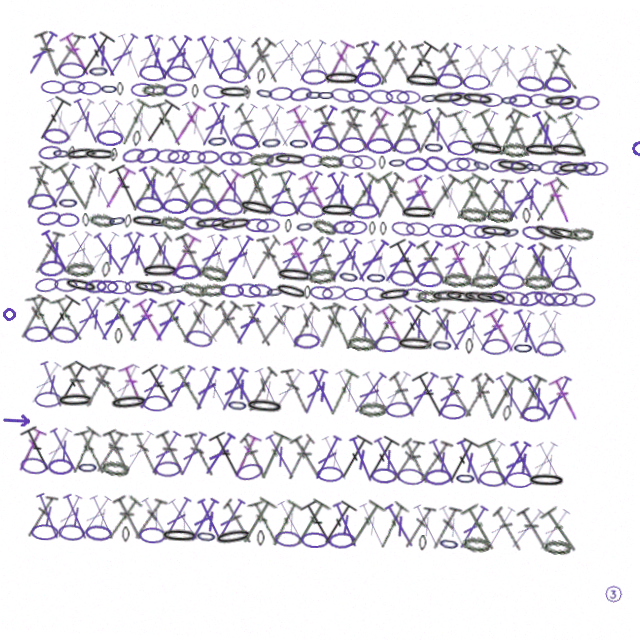chain: (219, 528, 261, 551), (233, 199, 275, 221), (528, 215, 565, 238), (462, 134, 503, 154), (111, 398, 152, 418), (543, 134, 584, 153), (272, 282, 309, 303), (273, 267, 314, 285), (396, 69, 436, 87), (543, 217, 579, 237), (247, 399, 287, 417), (215, 217, 251, 236), (62, 283, 98, 302), (376, 283, 412, 302), (139, 267, 179, 284), (396, 333, 436, 350), (58, 399, 98, 416), (239, 463, 269, 485), (59, 152, 95, 170), (442, 284, 478, 302), (460, 284, 496, 302), (315, 70, 355, 86), (517, 136, 557, 152), (315, 202, 355, 218), (396, 202, 436, 218), (531, 466, 571, 482), (166, 532, 206, 548), (197, 266, 228, 286), (305, 266, 336, 286), (424, 86, 460, 103), (453, 86, 489, 103), (490, 152, 526, 169), (190, 218, 226, 235), (131, 284, 167, 301), (308, 216, 336, 237), (293, 200, 322, 220), (50, 332, 79, 352), (185, 332, 214, 352), (130, 150, 157, 171), (517, 282, 544, 303), (552, 153, 587, 169), (473, 285, 508, 301), (225, 134, 254, 153), (212, 200, 241, 219), (419, 150, 445, 171), (531, 282, 557, 303), (63, 267, 93, 285), (468, 267, 498, 285), (104, 465, 134, 483), (536, 87, 571, 102), (268, 153, 303, 168), (127, 219, 162, 234), (476, 219, 511, 234), (429, 285, 464, 300), (374, 333, 403, 351), (401, 465, 430, 483), (116, 151, 142, 171), (260, 151, 286, 171), (510, 69, 538, 87), (37, 135, 65, 153), (172, 267, 200, 285), (388, 267, 416, 285), (550, 267, 578, 285), (179, 284, 207, 302), (24, 333, 52, 351), (537, 333, 565, 351), (24, 465, 52, 483), (280, 531, 308, 549), (33, 217, 59, 236), (489, 283, 515, 302), (441, 267, 470, 284), (522, 267, 551, 284), (360, 399, 389, 416), (468, 531, 497, 548), (211, 88, 246, 102), (78, 154, 113, 168), (243, 152, 270, 170), (37, 267, 64, 285), (51, 69, 79, 86), (159, 69, 187, 86), (24, 201, 52, 218), (132, 201, 160, 218), (348, 201, 376, 218), (496, 267, 524, 284), (334, 531, 362, 548), (323, 86, 349, 104), (518, 218, 544, 236), (33, 284, 59, 302), (495, 136, 524, 152), (455, 202, 484, 218), (482, 202, 511, 218), (347, 334, 376, 350), (549, 532, 578, 548), (294, 69, 321, 86), (429, 69, 456, 86), (537, 69, 564, 86), (388, 135, 415, 152), (294, 333, 321, 350), (483, 333, 510, 350), (37, 399, 64, 416), (388, 399, 415, 416), (523, 399, 550, 416), (159, 465, 186, 482), (429, 465, 456, 482), (483, 465, 510, 482), (64, 531, 91, 548), (91, 531, 118, 548), (282, 86, 307, 104), (551, 86, 576, 104), (547, 152, 572, 170), (132, 70, 160, 86), (334, 136, 362, 152), (442, 136, 470, 152), (267, 202, 295, 218), (145, 400, 173, 416), (510, 466, 538, 482), (37, 532, 65, 548), (307, 532, 335, 548), (187, 201, 213, 218), (320, 284, 346, 301), (213, 70, 240, 86), (456, 70, 483, 86), (91, 136, 118, 152), (307, 136, 334, 152), (361, 136, 388, 152), (159, 202, 186, 218), (156, 219, 183, 235), (415, 268, 442, 284), (198, 285, 225, 301), (442, 400, 469, 416), (321, 466, 348, 482), (375, 466, 402, 482), (145, 532, 172, 548), (156, 86, 181, 103), (522, 86, 547, 103), (33, 152, 58, 169), (441, 152, 466, 169), (451, 152, 476, 169), (340, 218, 365, 235), (388, 218, 413, 235), (149, 284, 174, 301), (236, 284, 261, 301), (349, 70, 375, 86), (52, 466, 78, 482), (201, 135, 224, 153), (255, 135, 278, 153), (336, 267, 359, 285), (444, 531, 467, 549), (162, 152, 186, 169), (329, 218, 353, 235), (363, 284, 387, 301), (262, 87, 287, 103), (362, 87, 387, 103), (569, 87, 594, 103), (347, 153, 372, 169), (505, 153, 530, 169), (534, 153, 559, 169), (208, 219, 233, 235), (253, 219, 278, 235), (459, 219, 484, 235), (123, 285, 148, 301), (308, 285, 333, 301), (504, 285, 529, 301), (466, 152, 488, 170), (80, 69, 103, 86), (201, 531, 224, 548), (135, 87, 161, 102), (86, 219, 112, 234), (565, 219, 591, 234), (196, 87, 220, 103), (442, 87, 466, 103), (214, 153, 238, 169), (180, 219, 204, 235), (83, 285, 107, 301), (498, 218, 519, 236), (579, 153, 604, 168), (247, 285, 272, 300), (401, 285, 426, 300), (432, 333, 454, 350), (229, 399, 251, 416), (313, 154, 339, 168), (415, 286, 441, 300), (55, 87, 79, 102), (379, 87, 403, 102), (151, 153, 175, 168), (192, 153, 216, 168), (225, 153, 249, 168), (334, 153, 358, 168), (485, 153, 509, 168), (403, 219, 427, 234), (53, 285, 77, 300), (543, 285, 567, 300), (553, 285, 577, 300), (571, 285, 595, 300), (104, 218, 125, 235), (283, 136, 305, 152), (418, 136, 440, 152), (54, 202, 76, 218), (364, 268, 386, 284), (513, 334, 535, 350), (81, 466, 103, 482), (459, 466, 481, 482), (34, 88, 58, 102), (71, 88, 95, 102), (124, 88, 148, 102), (390, 88, 414, 102), (473, 88, 497, 102), (502, 88, 526, 102), (177, 154, 201, 168), (242, 220, 266, 234), (425, 220, 449, 234), (438, 220, 462, 234), (106, 286, 130, 300), (219, 286, 243, 300), (343, 286, 367, 300), (341, 88, 364, 102), (296, 154, 319, 168), (400, 154, 423, 168), (570, 154, 593, 168), (54, 220, 77, 234), (471, 220, 494, 234), (95, 286, 118, 300), (248, 87, 268, 103), (413, 87, 433, 103), (519, 153, 539, 169), (292, 219, 312, 235), (166, 285, 186, 301), (264, 285, 284, 301), (493, 87, 513, 102), (383, 153, 402, 168), (93, 88, 112, 102), (298, 88, 317, 102), (310, 88, 329, 102), (47, 154, 66, 168), (147, 220, 166, 234), (249, 70, 259, 86), (127, 136, 136, 152), (519, 202, 528, 218), (100, 268, 109, 284), (505, 400, 514, 416), (236, 87, 245, 102), (62, 153, 71, 168), (115, 334, 123, 350), (466, 334, 474, 350), (128, 532, 136, 548), (263, 532, 271, 548), (425, 532, 433, 548), (105, 154, 113, 168), (79, 220, 87, 234), (121, 220, 129, 234), (110, 88, 117, 102), (185, 88, 192, 102), (374, 154, 381, 168), (282, 220, 289, 234), (366, 220, 373, 234), (377, 220, 384, 234), (303, 286, 310, 300)
double: (545, 498, 590, 549), (47, 168, 91, 219), (174, 168, 217, 219), (371, 168, 414, 219), (67, 36, 109, 87), (391, 36, 433, 87), (134, 102, 176, 153), (40, 300, 82, 351), (142, 366, 184, 417), (304, 498, 346, 549), (350, 498, 392, 549), (466, 498, 508, 549), (466, 102, 507, 154), (242, 498, 283, 550), (296, 498, 337, 550), (391, 300, 432, 351), (412, 366, 453, 417), (323, 498, 364, 549), (446, 168, 486, 220), (486, 366, 526, 418), (107, 499, 149, 548), (512, 103, 553, 153), (337, 169, 378, 219), (526, 169, 567, 219), (27, 102, 67, 153), (386, 234, 426, 285), (54, 366, 94, 417), (22, 432, 62, 483), (211, 432, 251, 483), (338, 432, 378, 483), (365, 432, 405, 483), (486, 102, 525, 154), (238, 168, 277, 220), (481, 432, 520, 484), (454, 169, 494, 219), (103, 168, 142, 219), (446, 432, 485, 483), (379, 102, 417, 154), (258, 432, 296, 484), (256, 38, 297, 86), (480, 170, 521, 218), (88, 236, 129, 284), (440, 103, 479, 153), (122, 169, 161, 219), (184, 169, 223, 219), (49, 301, 88, 351), (103, 301, 142, 351), (157, 301, 196, 351), (170, 367, 209, 417), (480, 38, 521, 85), (512, 500, 553, 547), (230, 38, 270, 86), (319, 38, 359, 86), (540, 104, 580, 152), (211, 170, 251, 218), (500, 170, 540, 218), (467, 236, 507, 284), (184, 302, 224, 350), (203, 302, 243, 350), (351, 368, 391, 416), (170, 500, 210, 548), (157, 37, 196, 86), (292, 37, 331, 86), (81, 103, 120, 152), (89, 103, 128, 152), (270, 103, 309, 152), (392, 169, 431, 218), (324, 235, 363, 284), (351, 235, 390, 284), (413, 235, 452, 284), (400, 301, 439, 350), (454, 301, 493, 350), (494, 367, 533, 416), (81, 499, 120, 548), (143, 499, 182, 548), (521, 499, 560, 548), (540, 499, 579, 548), (366, 301, 404, 351), (252, 499, 290, 549), (528, 36, 565, 87), (109, 102, 146, 153), (325, 366, 362, 417), (265, 38, 304, 86), (454, 38, 493, 86), (378, 236, 417, 284), (346, 302, 385, 350), (292, 434, 331, 482), (50, 37, 88, 86), (212, 37, 250, 86), (447, 37, 485, 86), (117, 103, 155, 152), (163, 103, 201, 152), (217, 103, 255, 152), (252, 103, 290, 152), (414, 103, 452, 152), (204, 169, 242, 218), (420, 169, 458, 218), (509, 169, 547, 218), (55, 235, 93, 284), (63, 235, 101, 284), (82, 235, 120, 284), (190, 235, 228, 284), (217, 235, 255, 284), (271, 235, 309, 284), (406, 235, 444, 284), (522, 235, 560, 284), (549, 235, 587, 284), (69, 301, 107, 350), (131, 301, 169, 350), (150, 301, 188, 350), (293, 301, 331, 350), (374, 301, 412, 350), (428, 301, 466, 350), (482, 301, 520, 350), (536, 301, 574, 350), (28, 367, 66, 416), (63, 367, 101, 416), (225, 367, 263, 416), (271, 367, 309, 416), (360, 367, 398, 416), (522, 367, 560, 416), (123, 433, 161, 482), (204, 433, 242, 482), (266, 433, 304, 482), (374, 433, 412, 482), (474, 433, 512, 482), (387, 499, 425, 548), (144, 103, 181, 153), (77, 433, 114, 483), (271, 499, 308, 549), (550, 102, 586, 153), (24, 300, 60, 351), (321, 300, 357, 351), (70, 432, 106, 483), (380, 498, 416, 549), (77, 37, 114, 86), (96, 37, 133, 86), (150, 37, 187, 86), (204, 37, 241, 86), (285, 37, 322, 86), (55, 103, 92, 152), (244, 103, 281, 152), (279, 103, 316, 152), (352, 103, 389, 152), (96, 169, 133, 218), (131, 169, 168, 218), (293, 169, 330, 218), (320, 169, 357, 218), (347, 169, 384, 218), (36, 235, 73, 284), (144, 235, 181, 284), (298, 235, 335, 284), (495, 235, 532, 284), (514, 235, 551, 284), (96, 301, 133, 350), (231, 301, 268, 350), (266, 301, 303, 350), (198, 367, 235, 416), (333, 367, 370, 416), (406, 367, 443, 416), (549, 367, 586, 416), (50, 433, 87, 482), (150, 433, 187, 482), (158, 433, 195, 482), (501, 433, 538, 482), (536, 433, 573, 482), (117, 499, 154, 548), (217, 499, 254, 548), (279, 499, 316, 548), (441, 499, 478, 548), (460, 499, 497, 548), (487, 499, 524, 548), (178, 37, 214, 87), (421, 37, 457, 87), (475, 37, 511, 87), (502, 37, 538, 87), (334, 103, 370, 153), (259, 169, 295, 219), (402, 169, 438, 219), (118, 235, 154, 285), (502, 301, 538, 351), (137, 367, 173, 417), (321, 433, 357, 483), (429, 433, 465, 483), (199, 499, 235, 549), (267, 168, 302, 219), (16, 37, 52, 86), (186, 37, 222, 86), (510, 37, 546, 86), (37, 103, 73, 152), (172, 103, 208, 152), (199, 103, 235, 152), (299, 103, 335, 152), (307, 103, 343, 152), (523, 103, 559, 152), (43, 169, 79, 218), (78, 169, 114, 218), (286, 169, 322, 218), (429, 169, 465, 218), (164, 235, 200, 284), (172, 235, 208, 284), (280, 235, 316, 284), (334, 235, 370, 284), (434, 235, 470, 284), (488, 235, 524, 284), (78, 301, 114, 350), (124, 301, 160, 350), (448, 301, 484, 350), (475, 301, 511, 350), (164, 367, 200, 416), (307, 367, 343, 416), (380, 367, 416, 416), (43, 433, 79, 482), (510, 433, 546, 482), (529, 433, 565, 482), (164, 499, 200, 548), (191, 499, 227, 548), (415, 499, 451, 548), (124, 37, 159, 87), (313, 37, 348, 87), (340, 37, 375, 87), (64, 103, 99, 153), (191, 103, 226, 153), (151, 169, 186, 219), (313, 169, 348, 219), (110, 235, 145, 285), (442, 235, 477, 285), (16, 301, 51, 351), (178, 301, 213, 351), (510, 301, 545, 351), (529, 301, 564, 351), (218, 367, 253, 417), (253, 367, 288, 417), (434, 367, 469, 417), (105, 433, 140, 483), (91, 499, 126, 549), (361, 499, 396, 549), (258, 302, 295, 349), (17, 168, 51, 219), (25, 37, 59, 87), (435, 103, 469, 153), (462, 103, 496, 153), (538, 169, 572, 219), (362, 235, 396, 285), (543, 235, 577, 285), (111, 367, 145, 417), (516, 367, 550, 417), (543, 367, 577, 417), (17, 433, 51, 483), (179, 433, 213, 483), (314, 433, 348, 483), (349, 433, 383, 483), (457, 433, 491, 483), (57, 499, 91, 549), (65, 499, 99, 549), (335, 499, 369, 549), (375, 38, 411, 85), (429, 38, 465, 85), (159, 170, 195, 217), (461, 368, 497, 415), (421, 434, 457, 481), (137, 500, 173, 547), (226, 500, 262, 547), (496, 500, 532, 547), (226, 104, 261, 152), (537, 39, 573, 85), (106, 37, 139, 87), (133, 37, 166, 87), (227, 235, 260, 285), (38, 367, 71, 417), (119, 367, 152, 417), (192, 367, 225, 417), (233, 433, 266, 483), (38, 499, 71, 549), (43, 38, 78, 85), (348, 38, 383, 85), (407, 104, 442, 151), (213, 302, 248, 349), (421, 302, 456, 349), (91, 368, 126, 415), (245, 368, 280, 415), (442, 368, 477, 415), (97, 434, 132, 481), (394, 434, 429, 481), (241, 38, 275, 86), (403, 38, 437, 86), (362, 104, 396, 152), (476, 170, 510, 218), (287, 302, 321, 350), (241, 434, 275, 482), (403, 434, 437, 482), (30, 500, 64, 548), (408, 500, 442, 548), (201, 235, 233, 285), (315, 301, 347, 351), (301, 367, 333, 417), (138, 236, 172, 283), (246, 236, 280, 283), (327, 104, 360, 152), (497, 104, 530, 152), (25, 170, 58, 218), (368, 170, 401, 218), (30, 236, 63, 284), (254, 236, 287, 284), (462, 236, 495, 284), (84, 368, 117, 416), (389, 368, 422, 416), (435, 500, 468, 548), (368, 38, 401, 85), (390, 104, 422, 152), (242, 302, 274, 350), (188, 434, 220, 482), (288, 434, 320, 482), (309, 235, 340, 284), (282, 367, 313, 416), (471, 367, 502, 416), (234, 170, 265, 218), (342, 302, 373, 350), (134, 434, 165, 482), (73, 169, 102, 218)
noise: (611, 575, 631, 595), (5, 423, 35, 435), (1, 315, 18, 332), (625, 130, 640, 148)
